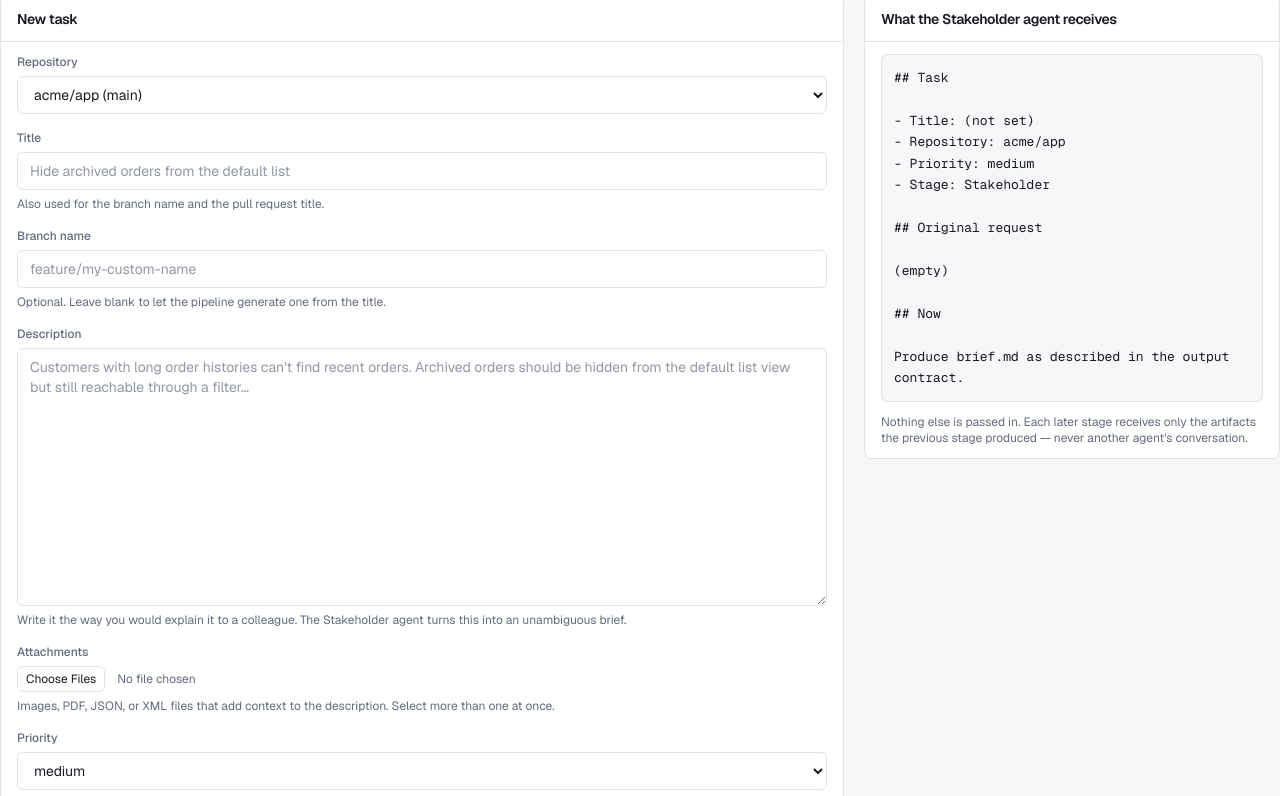
Test: NewTaskForm dependency multi-select — scoped to the selected repository › swaps the candidates when the repository changes
Select "acme/other (main)" in the dropdown labelled "Repository" at coordinates (422, 95), box [17,76,827,114]
(page scrolled)
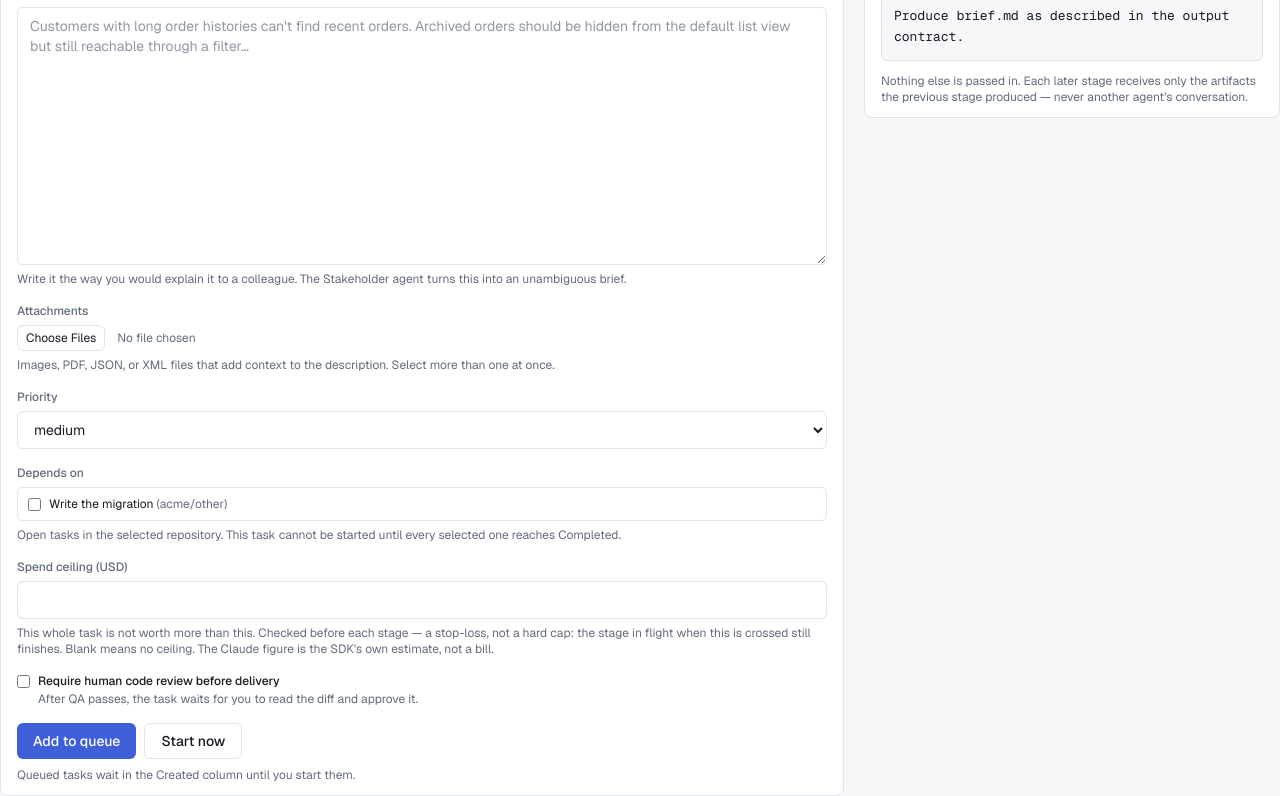
Now the text "Write the migration (acme/other)" is shown, box [49,496,227,512]
